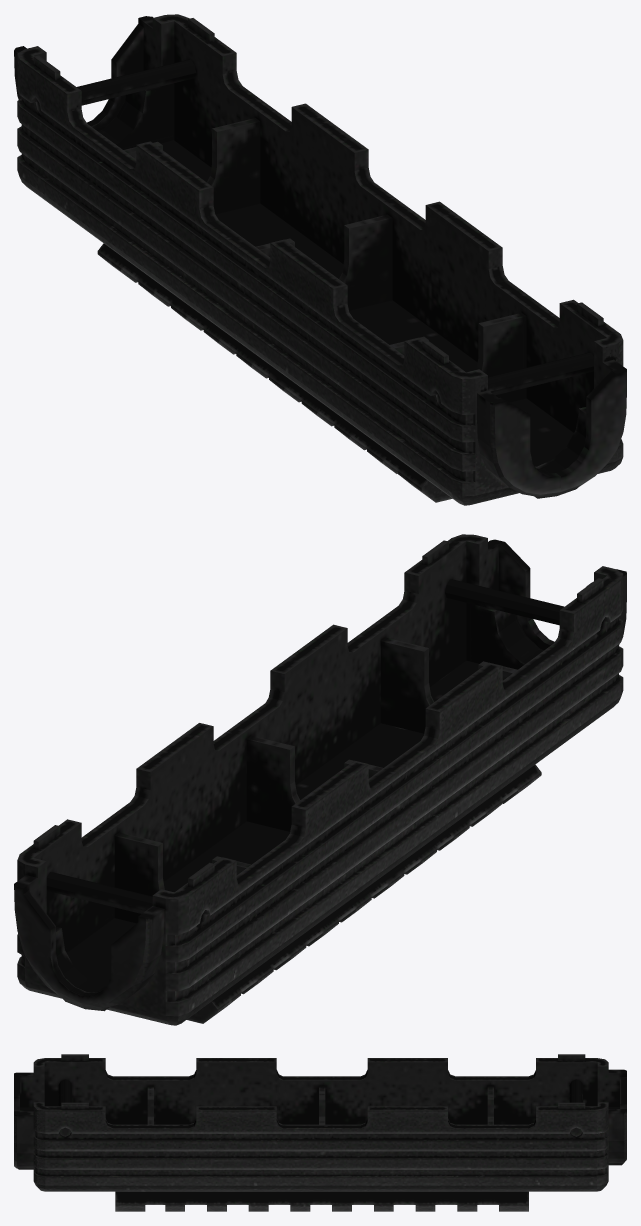
3 views of the same model, one above another, from view 1: azimuth 30°, elevation 25°; view 2: azimuth 150°, elevation 25°; view 3: azimuth 270°, elevation 25° (orthographic). The views are drawn at different scales.
Visible parts, largest first — view 1: TW_653ecd065a1690d9d90491e6_PZ_Import; view 2: TW_653ecd065a1690d9d90491e6_PZ_Import; view 3: TW_653ecd065a1690d9d90491e6_PZ_Import.
Part boxes in pixels (x1,y1,x2,y2): TW_653ecd065a1690d9d90491e6_PZ_Import: [14, 14, 626, 505]; TW_653ecd065a1690d9d90491e6_PZ_Import: [14, 534, 626, 1025]; TW_653ecd065a1690d9d90491e6_PZ_Import: [14, 1054, 626, 1211].
Size of the model in its own units: 0.0173 by 0.085 by 0.0181.
1 material, 1 textured.
